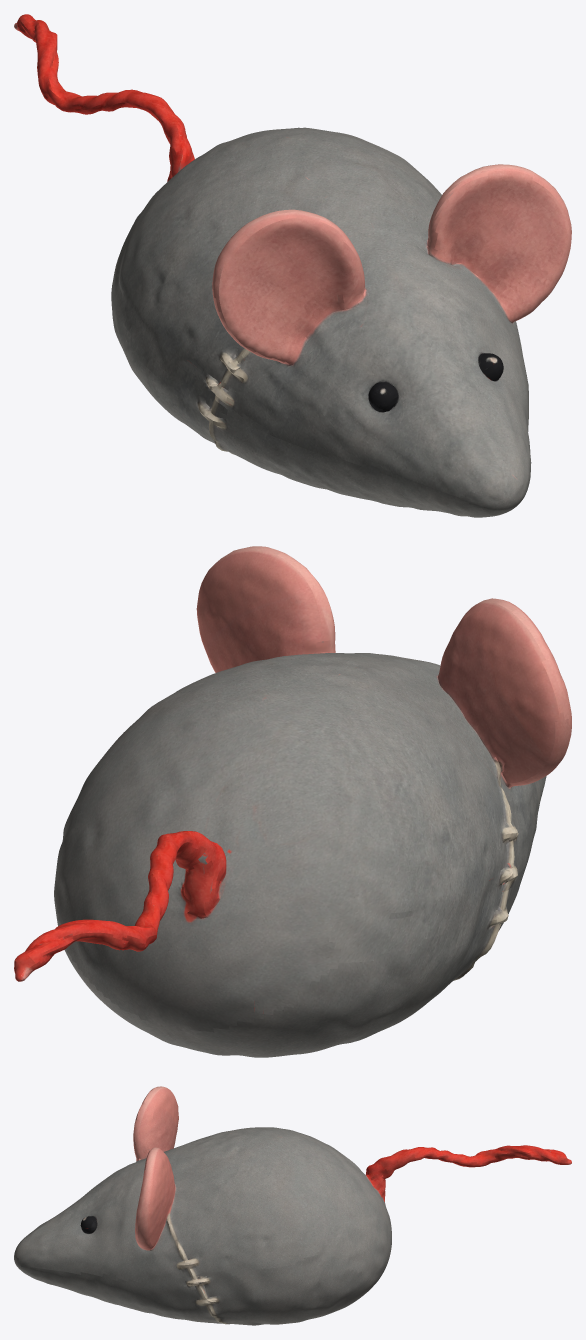
File: toy_mouse.glb
3 renders of one model, top to bottom at view 1: azimuth 30°, elevation 25°; view 2: azimuth 150°, elevation 25°; view 3: azimuth 270°, elevation 25°, orthographic. The views are drawn at different scales.
Parts seen in each view (by area): view 1: Mesh0; view 2: Mesh0; view 3: Mesh0.
Part boxes in pixels (box(x1,y1,x2,y2)): Mesh0: box(14, 14, 571, 517); Mesh0: box(14, 546, 571, 1057); Mesh0: box(14, 1086, 571, 1325).
Size of the model in its own units: 0.7955 by 0.6569 by 1.9.
1 material, 1 textured.
